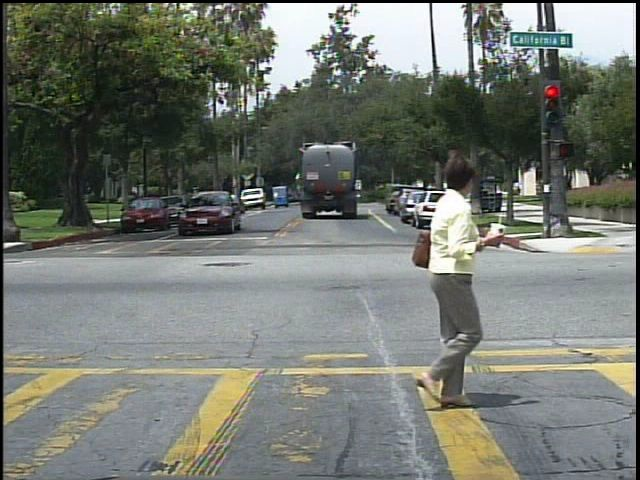person: (387, 141, 507, 413), (513, 180, 526, 199)
